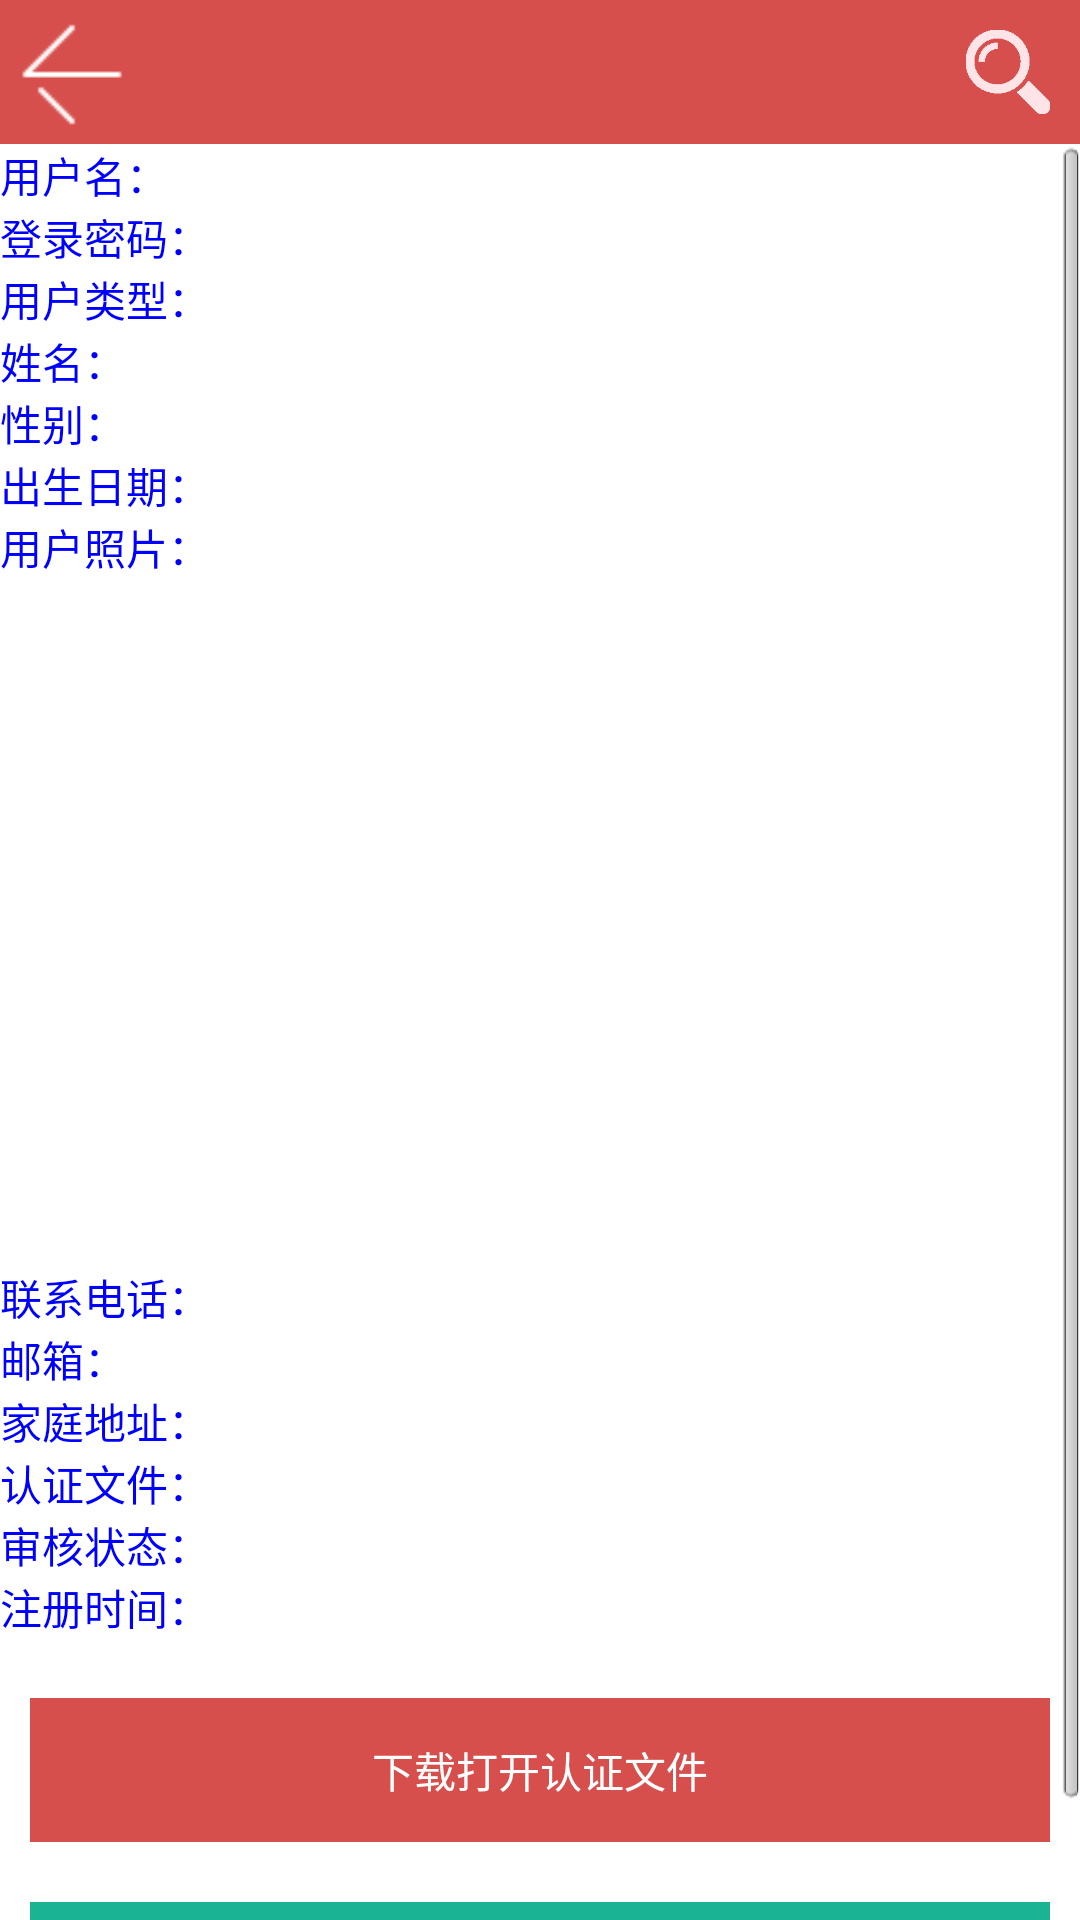

Screen size 1080px×1920px. Icon name, then its box in pixels as box(x1, y1, x2, y2):
left: box(22, 25, 122, 125)
search: box(966, 30, 1050, 114)
